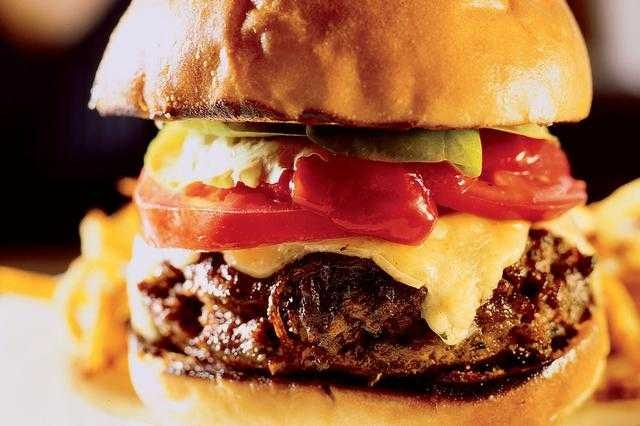hamburger: (79, 1, 605, 417)
